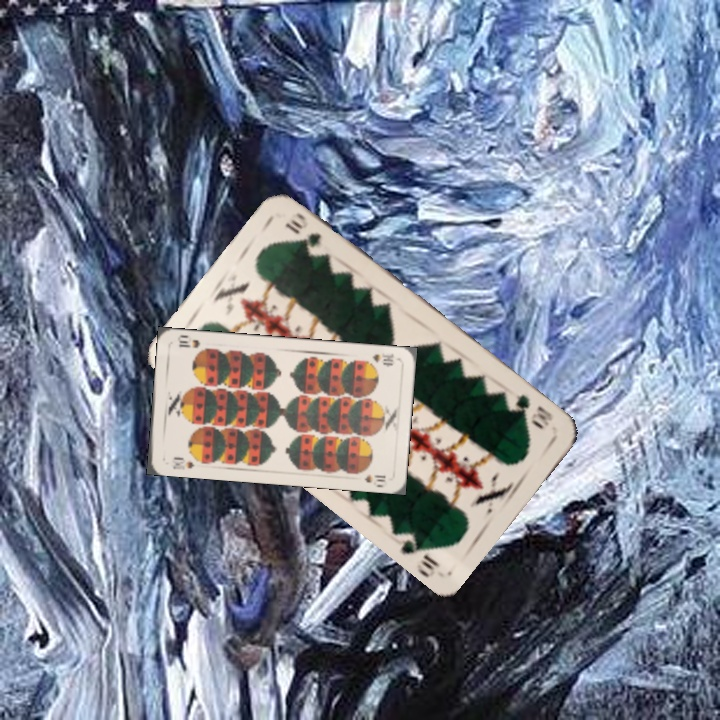G10: (511, 390, 556, 432)
S10: (368, 349, 396, 368), (169, 453, 197, 472)
